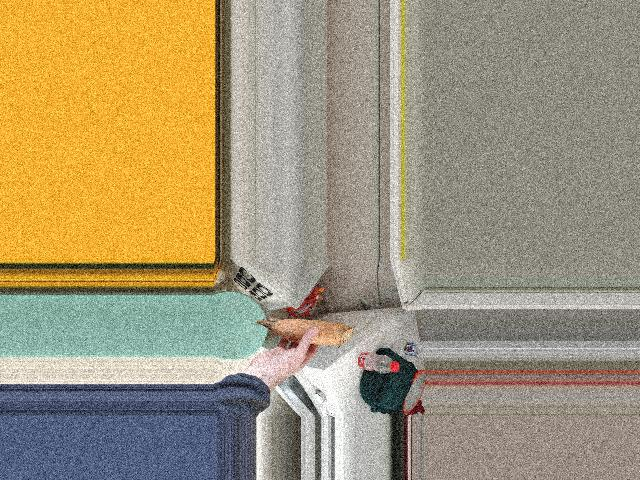sweet_potato: (262, 322, 357, 348)
